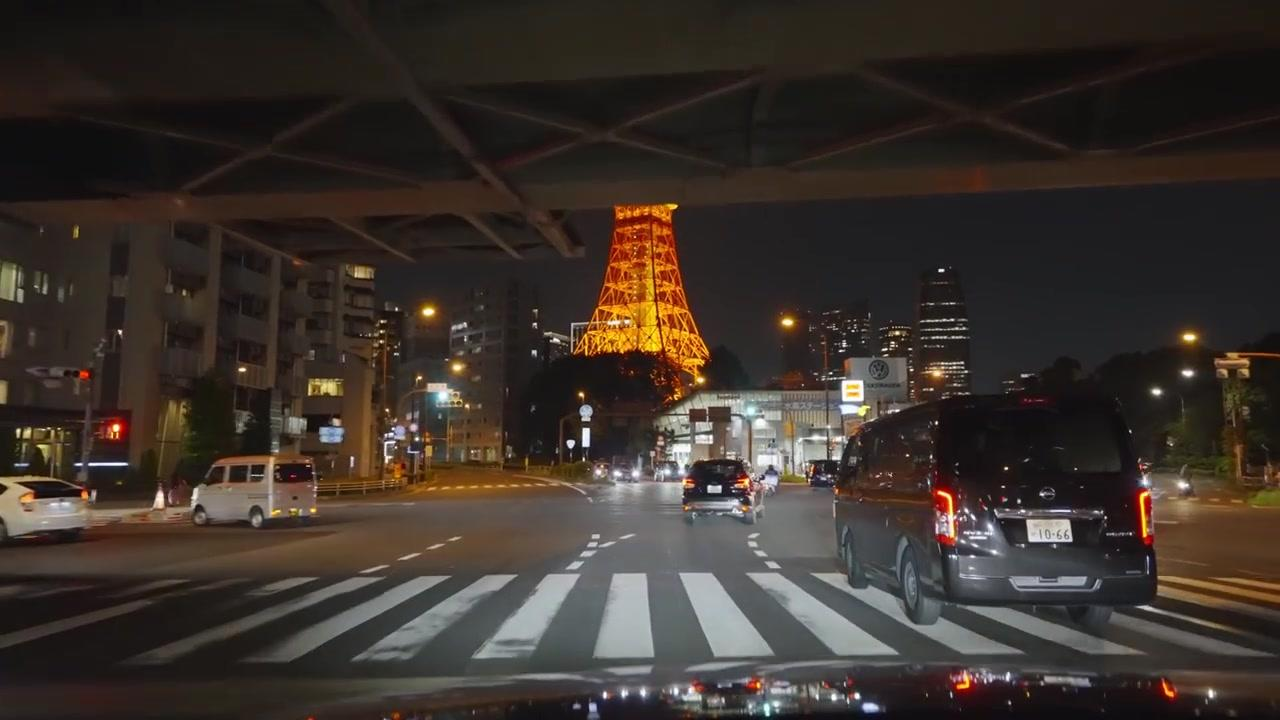car: (833, 391, 1159, 628), (191, 455, 316, 530), (0, 474, 93, 545), (681, 458, 763, 525), (1149, 463, 1194, 500), (808, 463, 837, 490), (759, 464, 780, 496), (655, 465, 681, 480), (612, 467, 636, 482)
traffic light: (76, 368, 92, 397)
